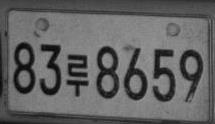3: (39, 43, 62, 96)
5: (152, 48, 176, 102)
6: (123, 47, 148, 100)
8: (95, 45, 120, 98), (12, 41, 36, 94)
9: (179, 48, 204, 103)
루: (65, 53, 89, 97)
